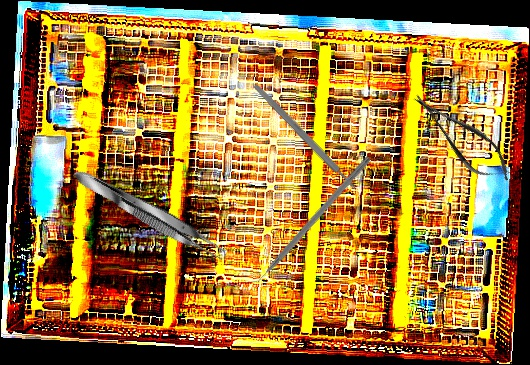Chopper: (240, 149, 373, 293)
Micro Scissor: (404, 81, 520, 194)
Scalpel Handle: (251, 81, 359, 193)
Tissue Forceps: (68, 161, 231, 267)
